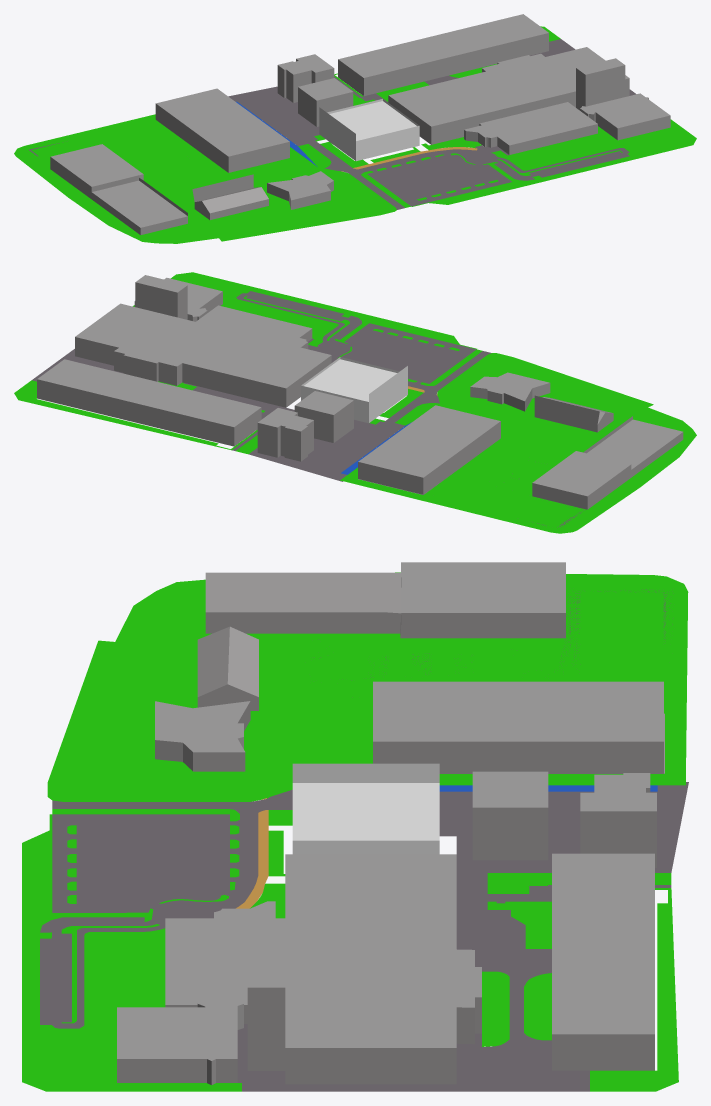
Rendered from vanderlande With Textures.fbx.
3 views of the same model, one above another, from view 1: azimuth 30°, elevation 25°; view 2: azimuth 150°, elevation 25°; view 3: azimuth 270°, elevation 25° (orthographic). The views are drawn at different scales.
Parts seen in each view (by area): view 1: Grass, Roads, Building3A, Building6, Building11, Building10A, Cube, Building1, Building5, Building9, Building4, Building18 (+3 smaller); view 2: Grass, Building3A, Roads, Building6, Building11, Building10A, Cube, Building17, Building1, Building18, Building8, Building4 (+2 smaller); view 3: Grass, Roads, Building3A, Building11, Building10A, Building6, Cube, Building5, Building1, Building18, Building8, Building17 (+3 smaller).
Boxes of the visible parts, x1,y1,x2,y2 form: Grass: [14, 26, 696, 243]; Roads: [29, 39, 636, 209]; Building3A: [388, 47, 629, 144]; Building6: [338, 14, 548, 95]; Building11: [155, 88, 289, 172]; Building10A: [50, 144, 187, 235]; Cube: [319, 99, 419, 161]; Building1: [464, 102, 597, 154]; Building5: [580, 93, 670, 140]; Building9: [192, 174, 268, 219]; Building4: [576, 58, 625, 110]; Building18: [298, 78, 353, 126]; Grass: [14, 272, 696, 533]; Building3A: [75, 303, 331, 407]; Roads: [32, 291, 584, 527]; Building6: [37, 359, 261, 446]; Building11: [358, 405, 500, 494]; Building10A: [532, 416, 683, 509]; Cube: [301, 357, 407, 423]; Building17: [257, 408, 313, 461]; Building1: [196, 305, 312, 349]; Building18: [294, 391, 353, 442]; Building8: [470, 372, 550, 411]; Building4: [135, 275, 187, 319]; Grass: [22, 572, 688, 1091]; Roads: [40, 589, 688, 1091]; Building3A: [285, 854, 481, 1084]; Building11: [373, 681, 664, 773]; Building10A: [205, 562, 565, 638]; Building6: [552, 853, 654, 1070]; Cube: [292, 763, 439, 854]; Building5: [117, 1000, 243, 1085]; Building1: [165, 901, 285, 1023]; Building18: [472, 771, 548, 860]; Building8: [155, 701, 250, 771]; Building17: [580, 773, 656, 867].
Bounding box in the file's own units: 905 × 69.84 × 491.
